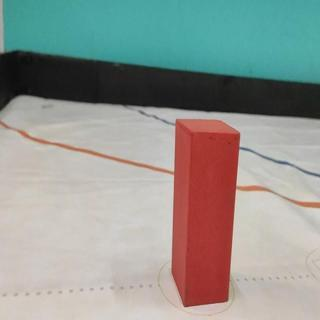redbox: (171, 114, 239, 309)
